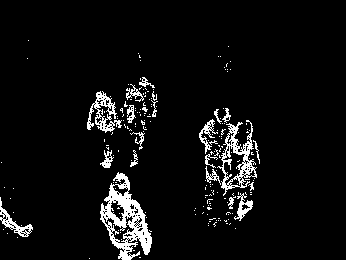person: (98, 172, 153, 260), (199, 105, 234, 215), (228, 119, 259, 221), (117, 83, 147, 168), (87, 90, 119, 168)
